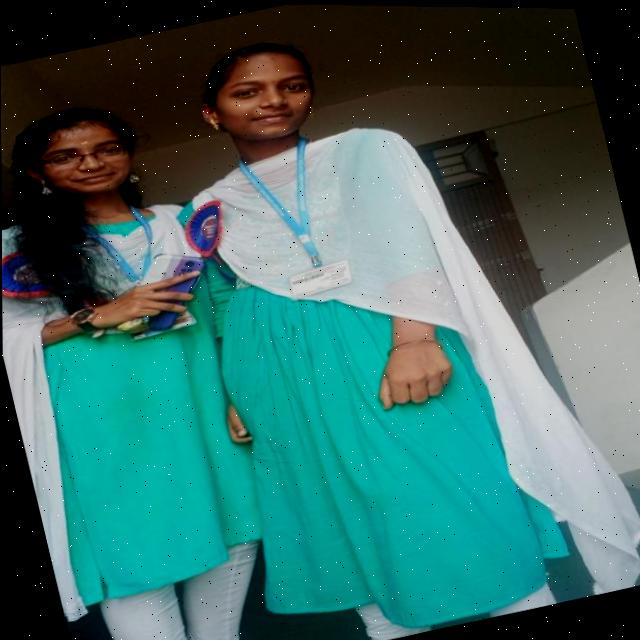id_card: (234, 135, 364, 311), (64, 195, 171, 301)
